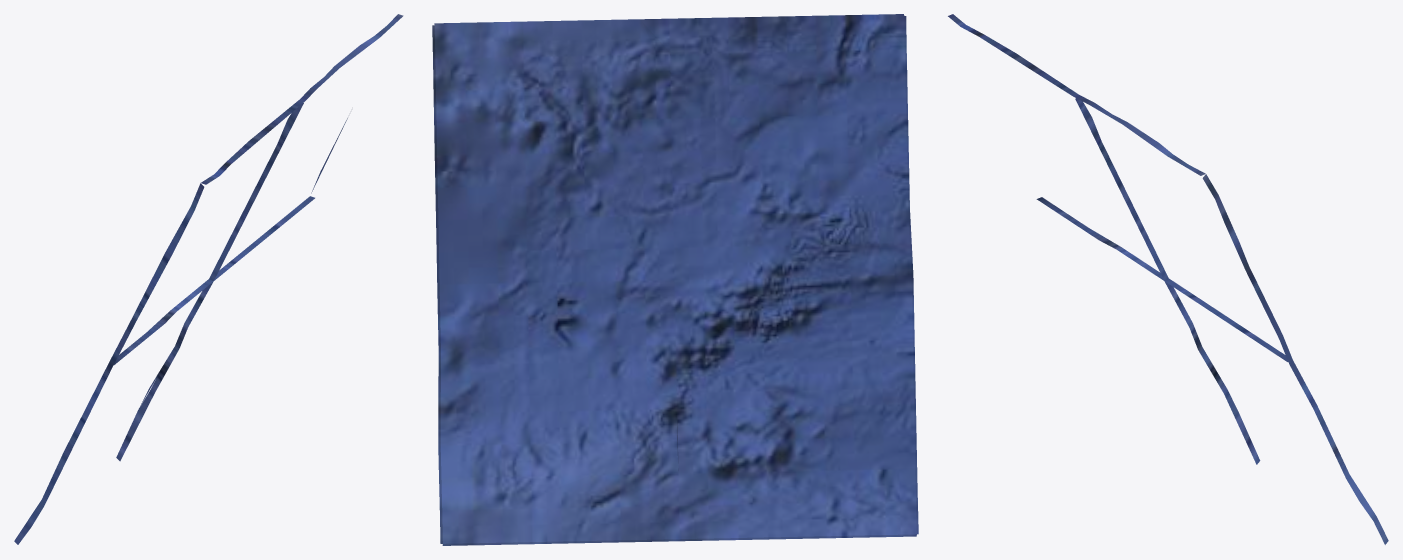
3 renders of one model, left to right at view 1: azimuth 30°, elevation 25°; view 2: azimuth 150°, elevation 25°; view 3: azimuth 270°, elevation 25°, orthographic. The views are drawn at different scales.
Bounding box in the file's own units: 78417 × 71877 × 68169.
1 material, 1 textured.
